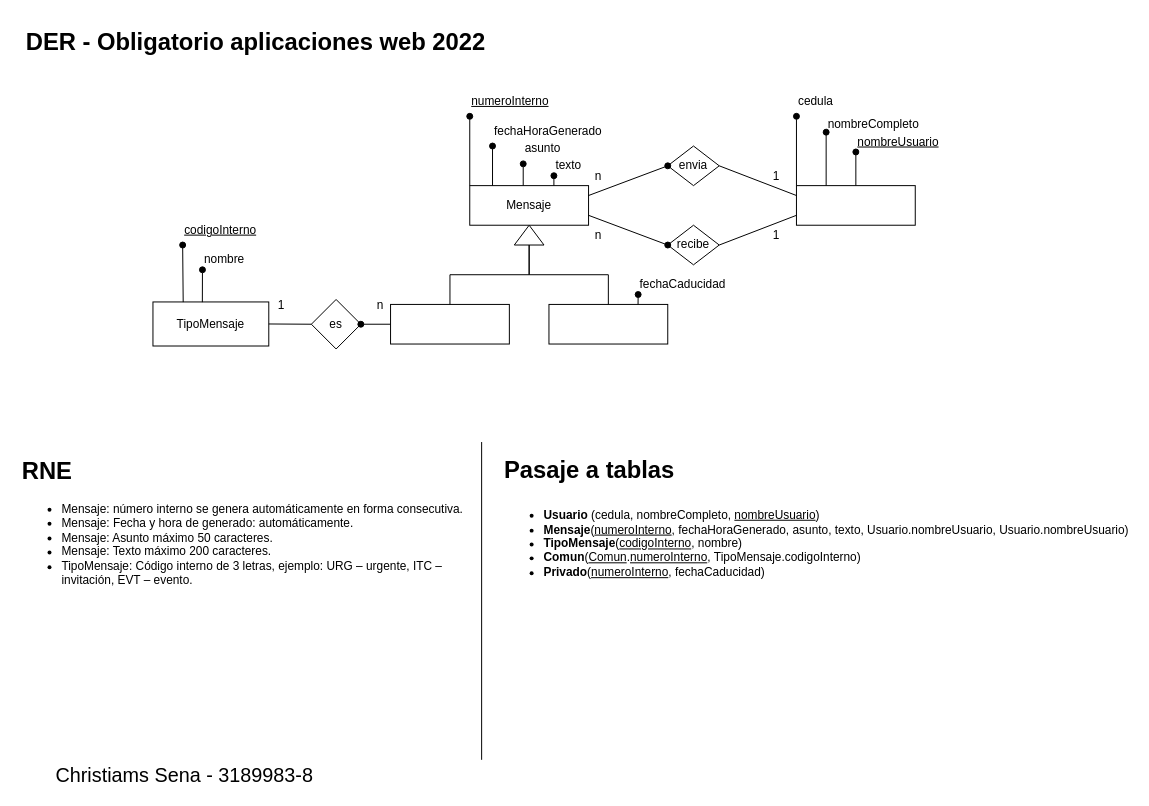
Some shapes in this 1149 by 806 pixel diagram are drawn without their labels. Here are the shapes that lost their labels. From the top down, the centre of each, then its label:
At (855,205): "Usuario".
At (449,323): "Comun".
At (608,323): "Privado".
